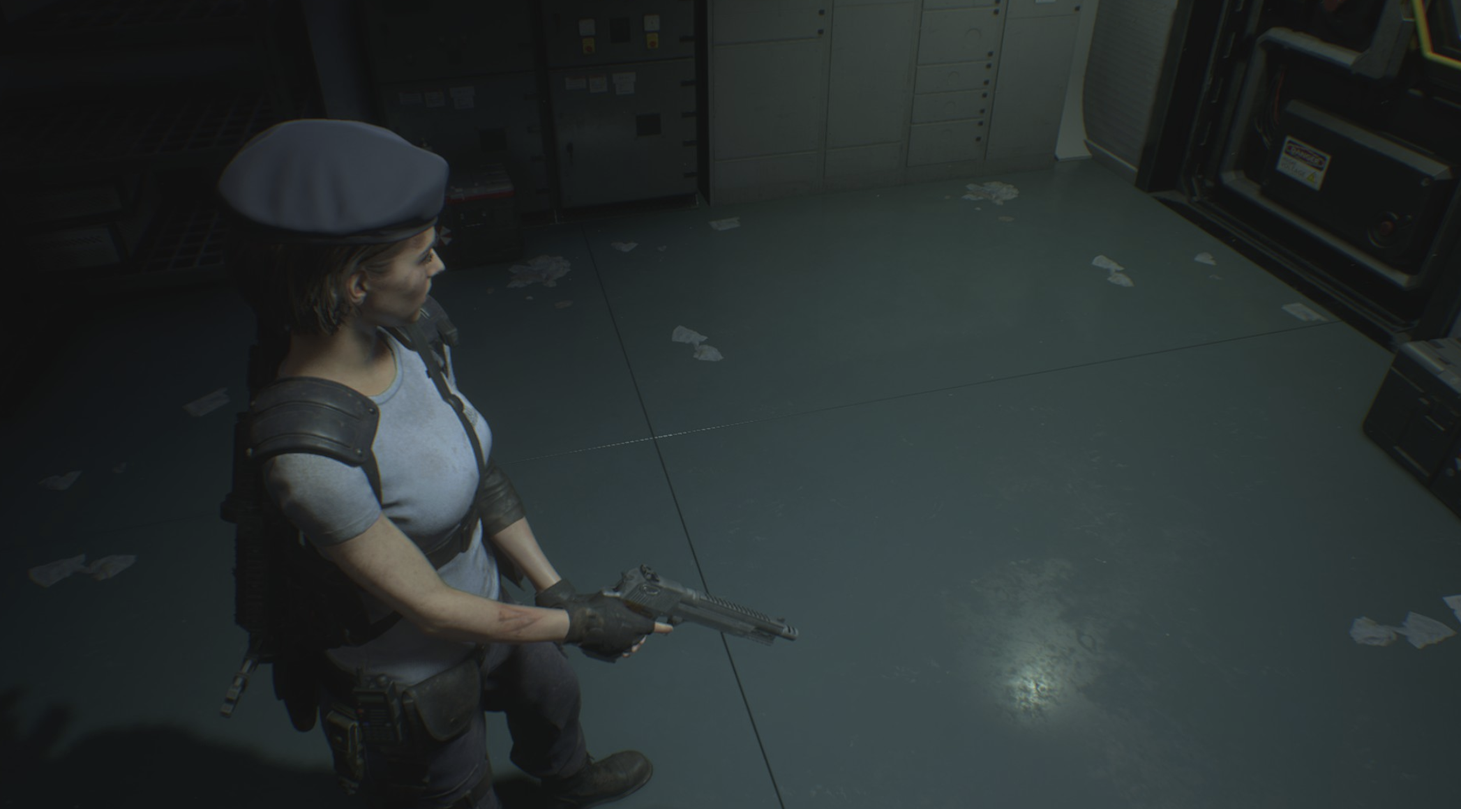gun_014: (574, 559, 804, 672)
